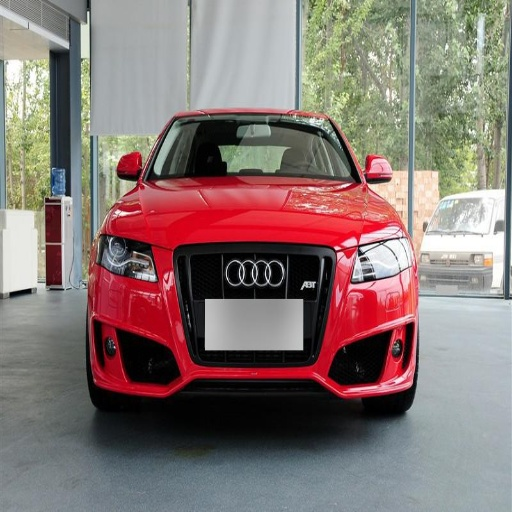_background_: (293, 310, 375, 398)
back_right_light: (97, 245, 411, 398)
front_bumper: (143, 116, 358, 182)
front_left_door: (351, 236, 411, 285)
front_right_door: (98, 233, 159, 290)
front_right_light: (108, 176, 400, 250)
